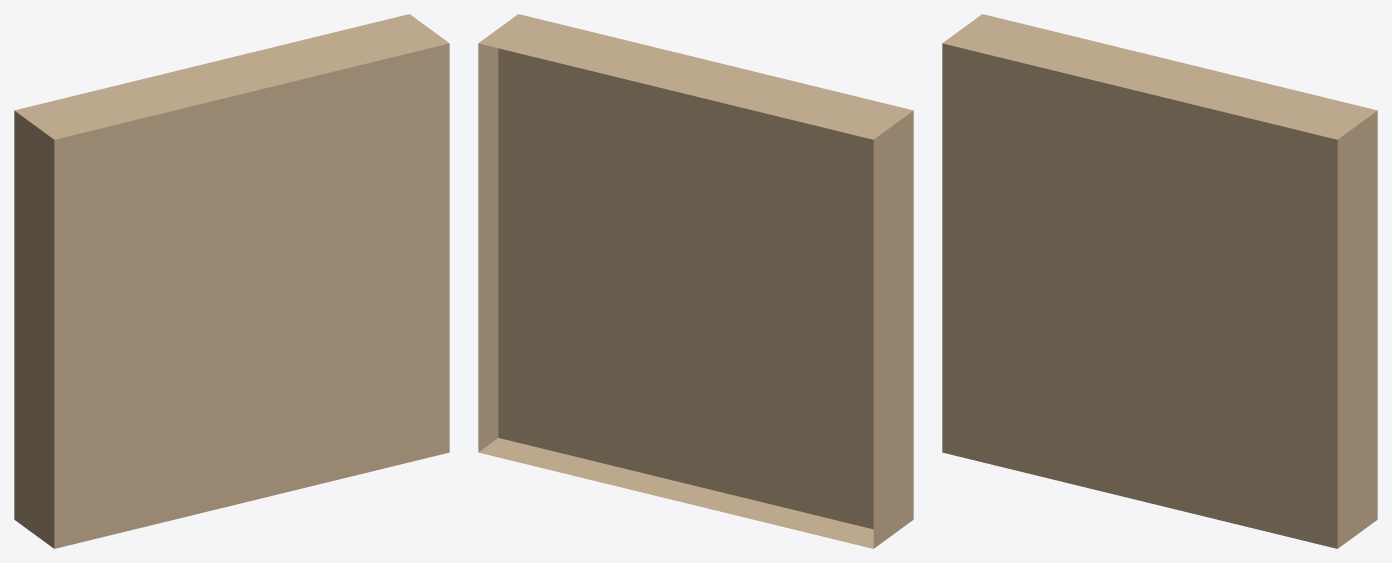
Rendered from torso.fbx.
3 renders of one model, left to right at view 1: azimuth 30°, elevation 25°; view 2: azimuth 150°, elevation 25°; view 3: azimuth 330°, elevation 25°, orthographic.
Parts seen in each view (by area): view 1: Cube; view 2: Cube.001, Cube; view 3: Cube.
Part boxes in pixels (bbox=[...]): Cube: bbox=[14, 14, 449, 548]; Cube.001: bbox=[498, 48, 873, 529]; Cube: bbox=[478, 14, 913, 548]; Cube: bbox=[942, 14, 1377, 548].
Size of the model in its own units: 1092000 by 1080000 by 192000.
